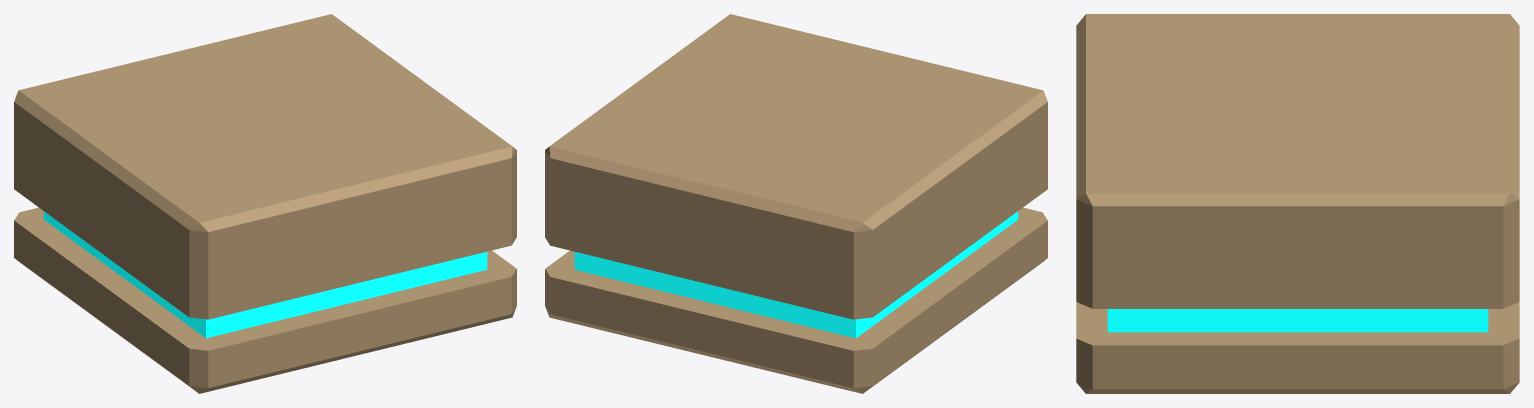
The model's file is Platform1.fbx.
3 views of the same model, side by side, from view 1: azimuth 30°, elevation 25°; view 2: azimuth 150°, elevation 25°; view 3: azimuth 270°, elevation 25° (orthographic). The views are drawn at different scales.
Visible parts, largest first — view 1: Cube.002; view 2: Cube.002; view 3: Cube.002.
Part boxes in pixels (x1,y1,x2,y2): Cube.002: (14,14,516,393); Cube.002: (545,14,1047,393); Cube.002: (1076,14,1519,393).
Size of the model in its own units: 200 by 100 by 200.
